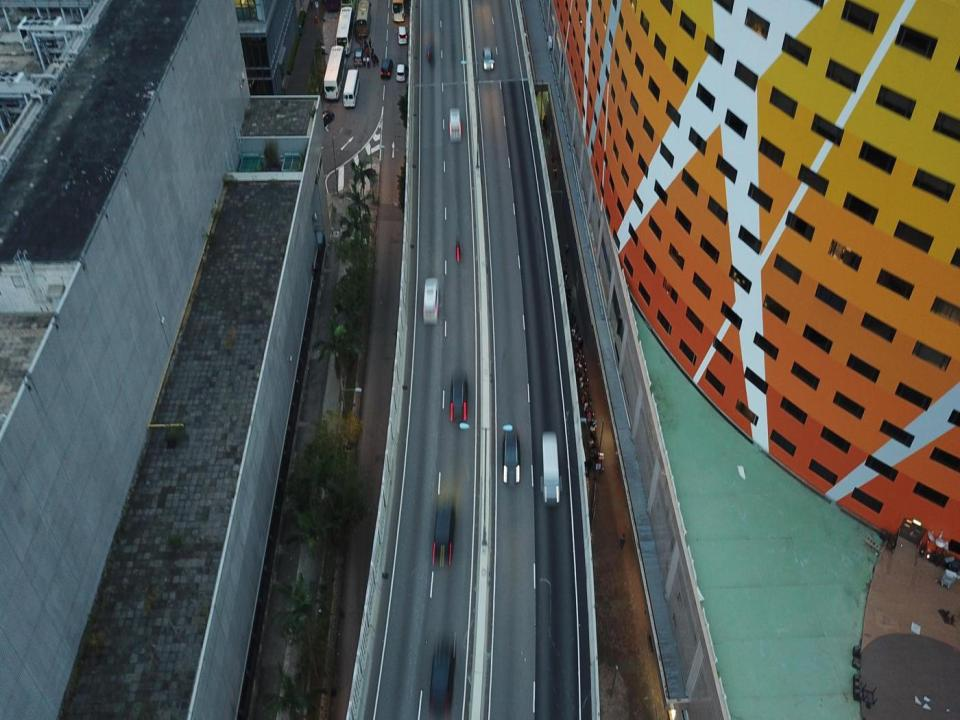bus: (322, 46, 345, 100), (344, 68, 362, 108), (335, 7, 353, 47), (354, 0, 372, 40)
car: (426, 634, 461, 718), (429, 499, 458, 568), (498, 425, 524, 491), (539, 431, 561, 508), (446, 374, 470, 425), (421, 277, 442, 327), (447, 106, 464, 144), (481, 47, 496, 73), (379, 56, 393, 80), (396, 24, 408, 46), (395, 62, 407, 82), (354, 48, 363, 66)
